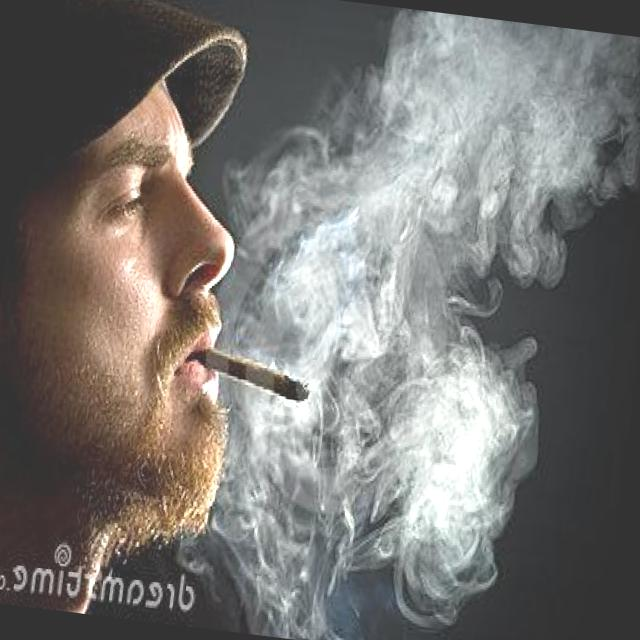smoke: (185, 307, 361, 423)
